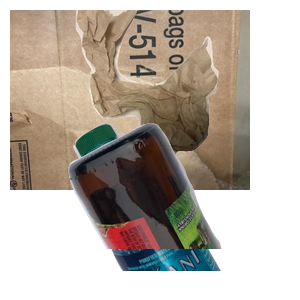cardboard: (10, 10, 250, 190)
glass: (66, 120, 300, 300)
plastic: (71, 120, 300, 300)
trash: (73, 10, 300, 163)
